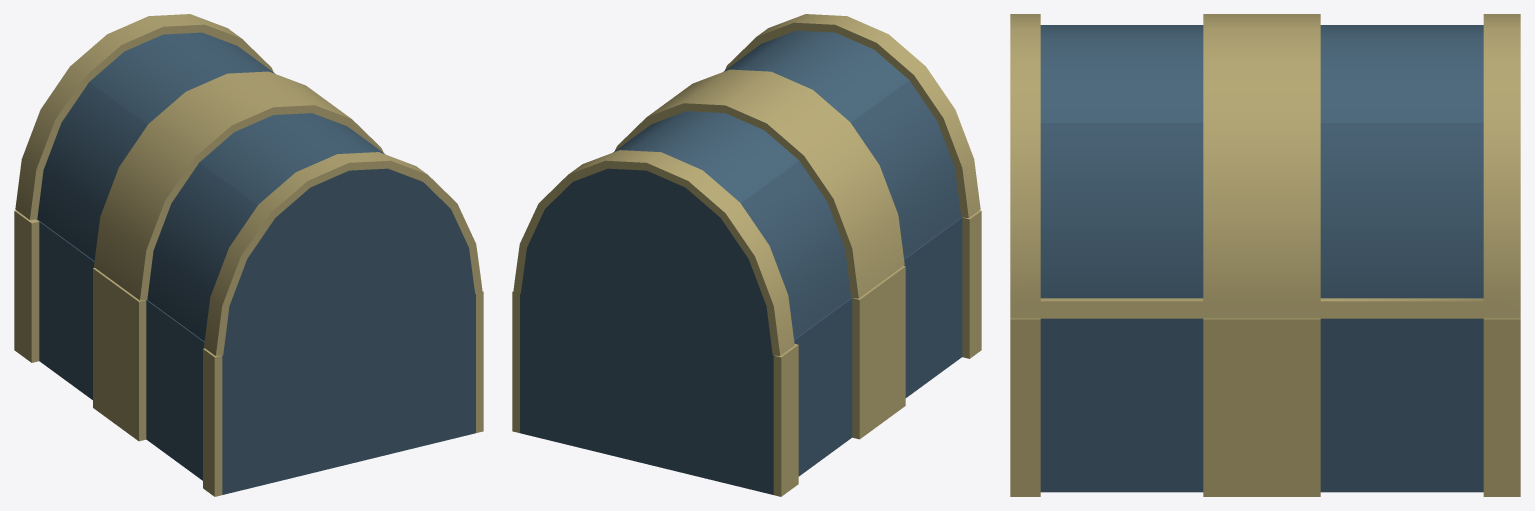
Rendered from Chest.fbx.
3 views of the same model, side by side, from view 1: azimuth 30°, elevation 25°; view 2: azimuth 150°, elevation 25°; view 3: azimuth 270°, elevation 25° (orthographic). The views are drawn at different scales.
Parts seen in each view (by area): view 1: Chest_Body1, Chest_Lid; view 2: Chest_Body1, Chest_Lid; view 3: Chest_Body1, Chest_Lid.
Part boxes in pixels (bbox=[...]): Chest_Body1: bbox=[15, 14, 482, 355]; Chest_Lid: bbox=[14, 210, 483, 496]; Chest_Body1: bbox=[513, 14, 980, 355]; Chest_Lid: bbox=[512, 210, 981, 496]; Chest_Body1: bbox=[1010, 14, 1520, 318]; Chest_Lid: bbox=[1010, 318, 1520, 496].
Size of the model in its own units: 106 by 113 by 137.
